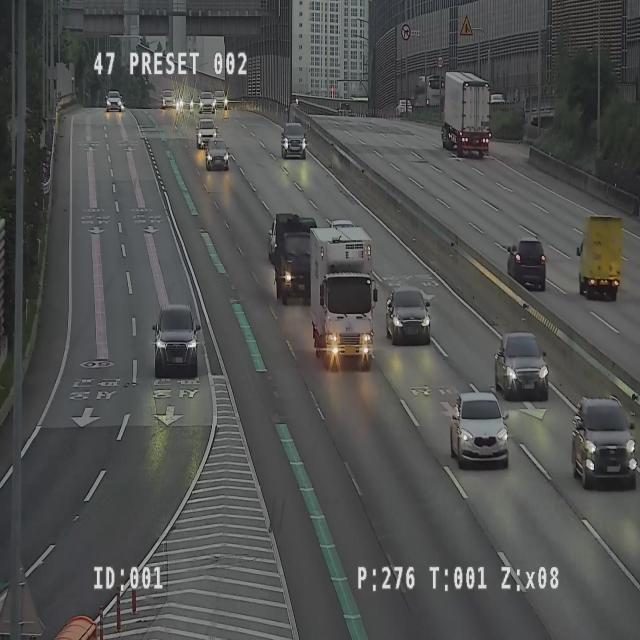Bus: (412, 75, 444, 115)
Car: (572, 398, 638, 489), (486, 319, 550, 405), (451, 392, 508, 469), (152, 305, 202, 379), (386, 288, 432, 346), (506, 237, 546, 294), (281, 122, 306, 161), (194, 118, 219, 152), (206, 140, 230, 172), (196, 85, 214, 117), (103, 89, 123, 114), (395, 96, 413, 120), (213, 85, 228, 112), (163, 87, 178, 111)
Truck: (310, 229, 378, 372), (442, 70, 490, 158), (274, 217, 318, 309), (576, 215, 622, 302)
